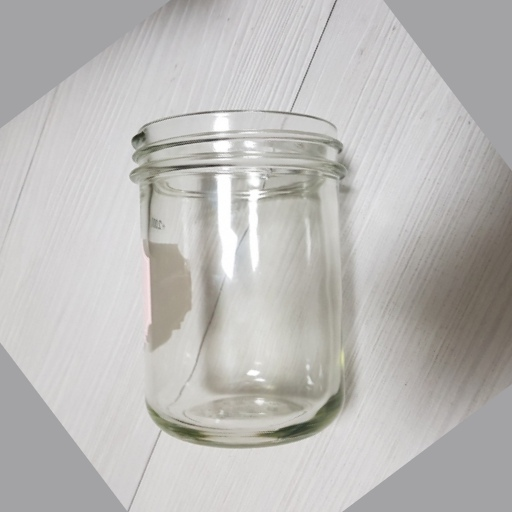Glass_5: (124, 104, 353, 444)
